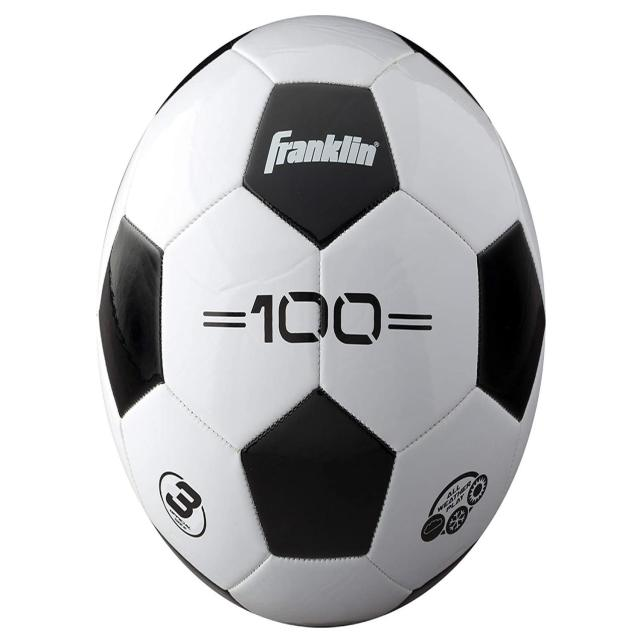Soccer Ball: (98, 16, 542, 628)
